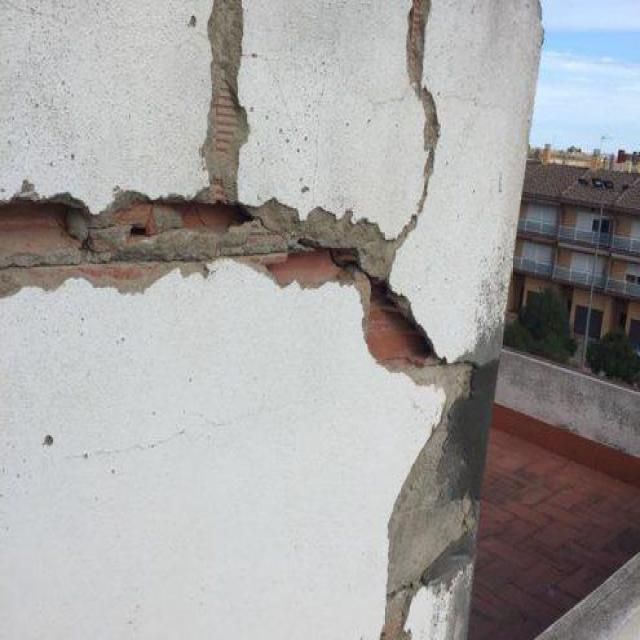crack: (0, 184, 475, 638), (193, 0, 251, 199), (394, 0, 439, 250)
